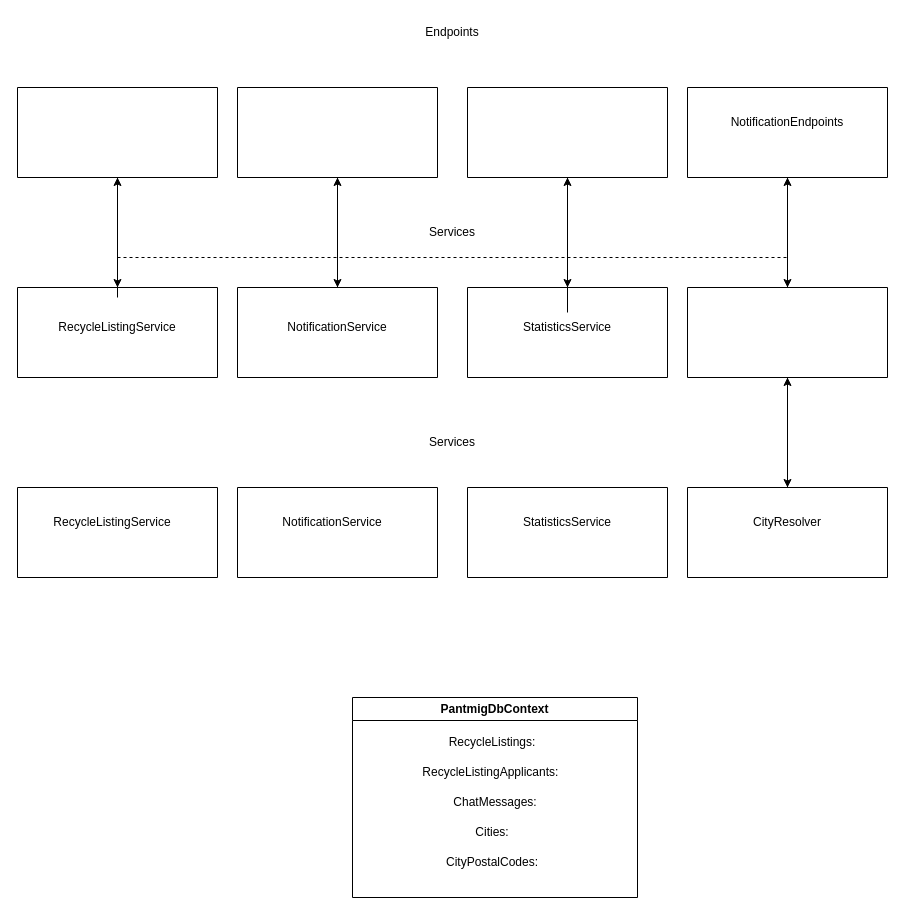
The diagram is 905 pixels wide and 915 high, and some of its shapes have lost their labels. The centre of each missing label's shape, as x and y in pixels:
"CityEndpoints" belongs at point (337, 132).
"IFileValidationService" belongs at point (787, 332).
"NewsletterEndpoints" belongs at point (567, 132).
"RecycleListingEndpoints" belongs at point (117, 132).
